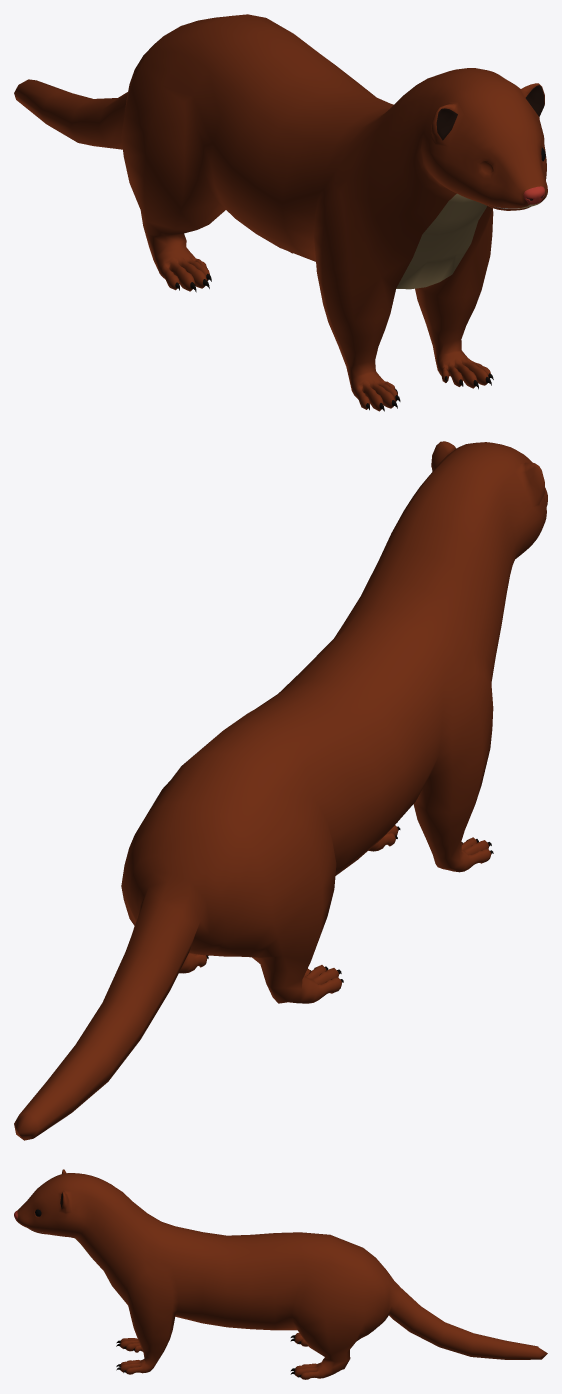
Rendered from mink.obj.
The picture shows the model from 3 angles, top to bottom: view 1: azimuth 30°, elevation 25°; view 2: azimuth 150°, elevation 25°; view 3: azimuth 270°, elevation 25°; orthographic projection. The views are drawn at different scales.
Parts seen in each view (by area): view 1: mink; view 2: mink; view 3: mink.
Boxes of the visible parts, <box> form: mink: <box>14,14,547,411</box>; mink: <box>14,441,547,1140</box>; mink: <box>14,1169,547,1379</box>.
Size of the model in its own units: 0.0903 by 0.1726 by 0.4545.
